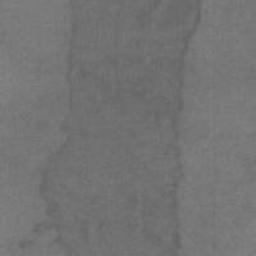Water spot: (14, 0, 202, 256)
